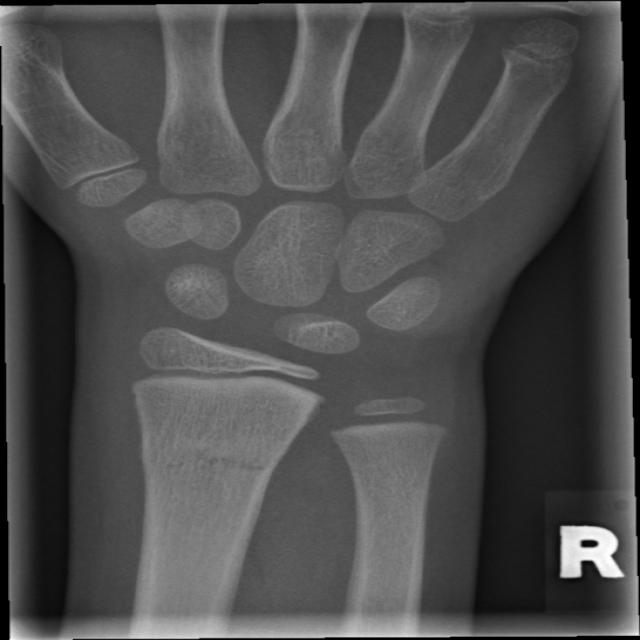radius fracture: (127, 398, 317, 534)
